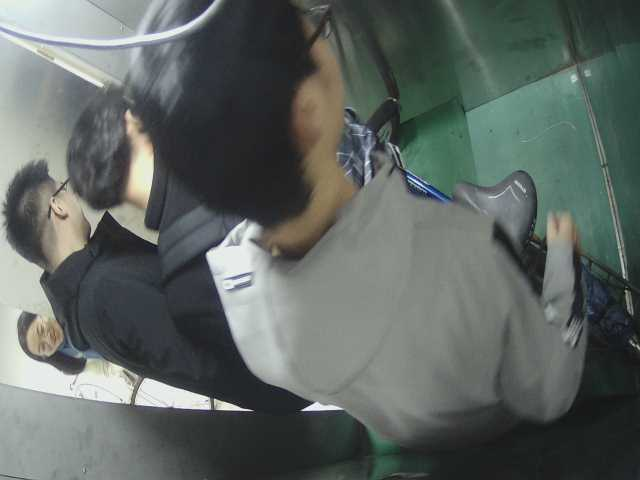bicycle: (346, 97, 636, 359)
person: (134, 1, 587, 448), (7, 157, 233, 398)
